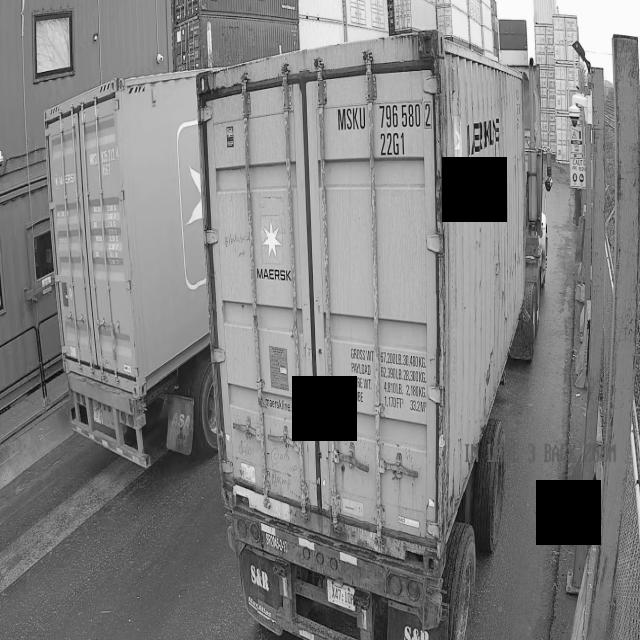container_company_logo: (257, 215, 291, 280)
container_number: (329, 90, 457, 166)
driver: (563, 167, 575, 238)
license_plate: (328, 580, 354, 610)
other_container_info: (349, 338, 430, 416)
truck_with_container: (199, 31, 544, 640), (0, 71, 209, 614)
